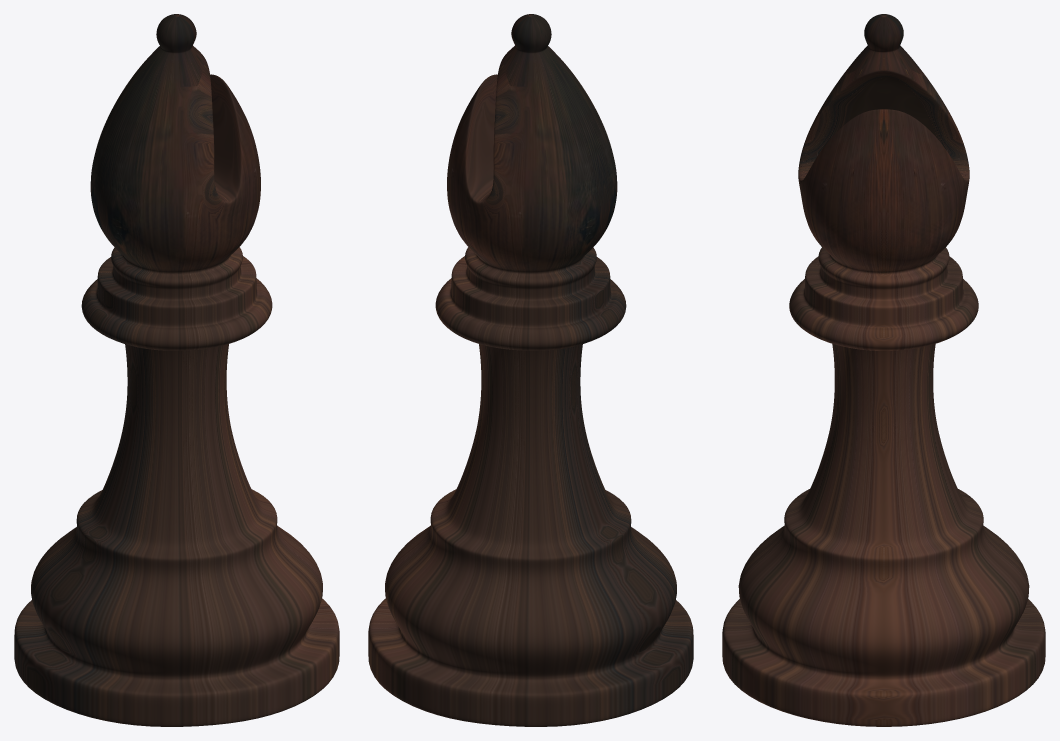
Rendered from bishop.glb.
The picture shows the model from 3 angles, left to right: view 1: azimuth 30°, elevation 25°; view 2: azimuth 150°, elevation 25°; view 3: azimuth 270°, elevation 25°; orthographic projection.
Parts seen in each view (by area): view 1: Sphere_Material.001_0; view 2: Sphere_Material.001_0; view 3: Sphere_Material.001_0.
Boxes of the visible parts, x1,y1,x2,y2 form: Sphere_Material.001_0: [14, 14, 339, 726]; Sphere_Material.001_0: [368, 14, 693, 726]; Sphere_Material.001_0: [722, 14, 1045, 726].
Bounding box in the file's own units: 3.9 × 8.5 × 3.87.
1 material, 1 textured.
